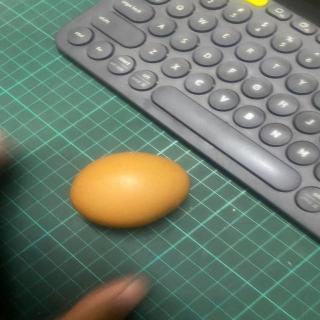Telur: (69, 150, 195, 230)
